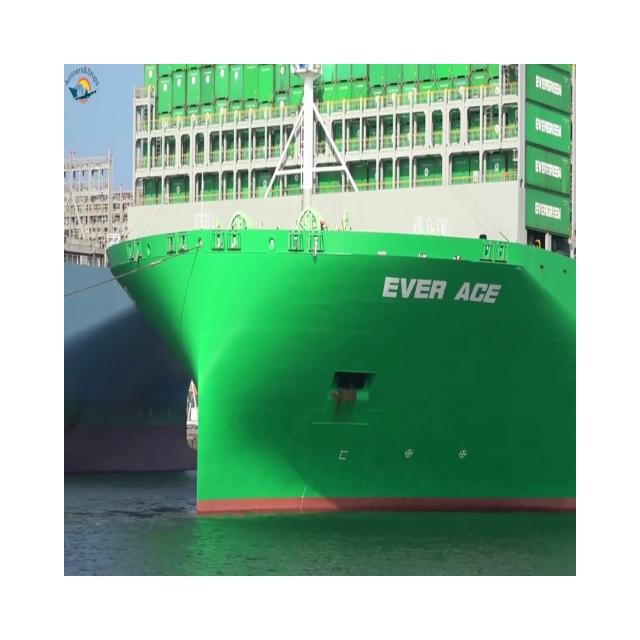OCR: (374, 268, 512, 332)
